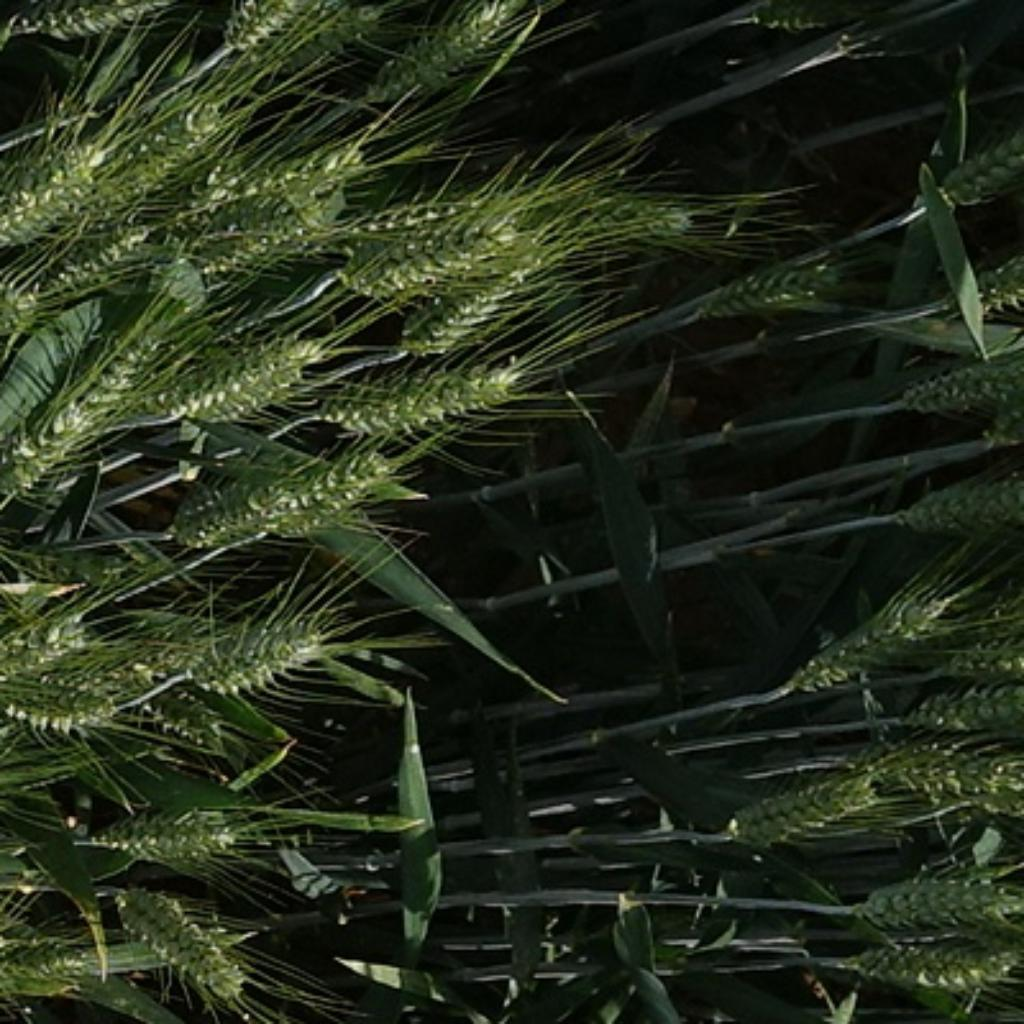0-0: (58, 76, 258, 230), (775, 563, 956, 698), (314, 348, 535, 442), (104, 867, 253, 998), (686, 232, 875, 335), (391, 253, 570, 360), (0, 117, 128, 261), (716, 747, 885, 855), (176, 133, 358, 232), (386, 3, 549, 113), (156, 322, 322, 430), (366, 194, 517, 304), (56, 314, 176, 442), (248, 453, 401, 545), (184, 212, 343, 294), (76, 796, 253, 867), (842, 926, 1024, 995), (852, 862, 1018, 934), (875, 737, 1016, 821), (186, 611, 332, 688), (153, 476, 304, 550), (542, 174, 701, 243), (901, 348, 1013, 430), (6, 667, 119, 747), (864, 683, 1024, 738), (921, 125, 1024, 209), (270, 3, 376, 84), (0, 908, 87, 1006), (0, 410, 98, 495), (898, 476, 1021, 542), (13, 2, 183, 47), (128, 673, 232, 744), (16, 537, 135, 594), (0, 604, 109, 666), (216, 0, 303, 60), (934, 630, 1023, 681), (0, 268, 60, 335), (748, 0, 868, 33)
